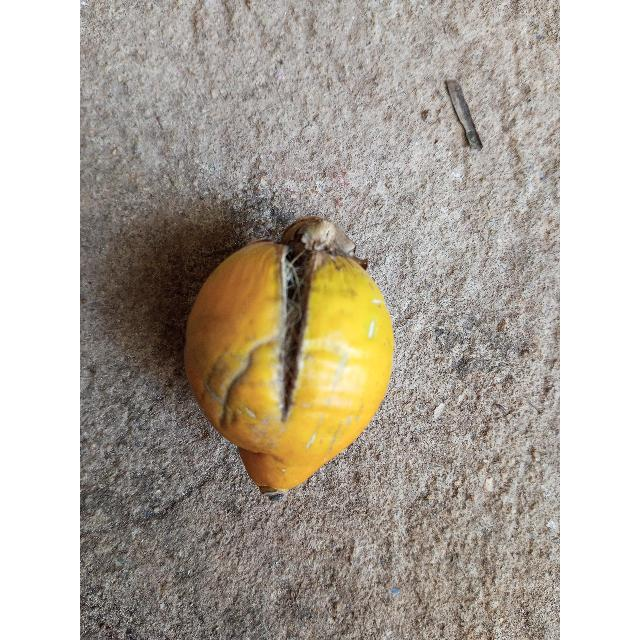damaged: (184, 217, 393, 498)
